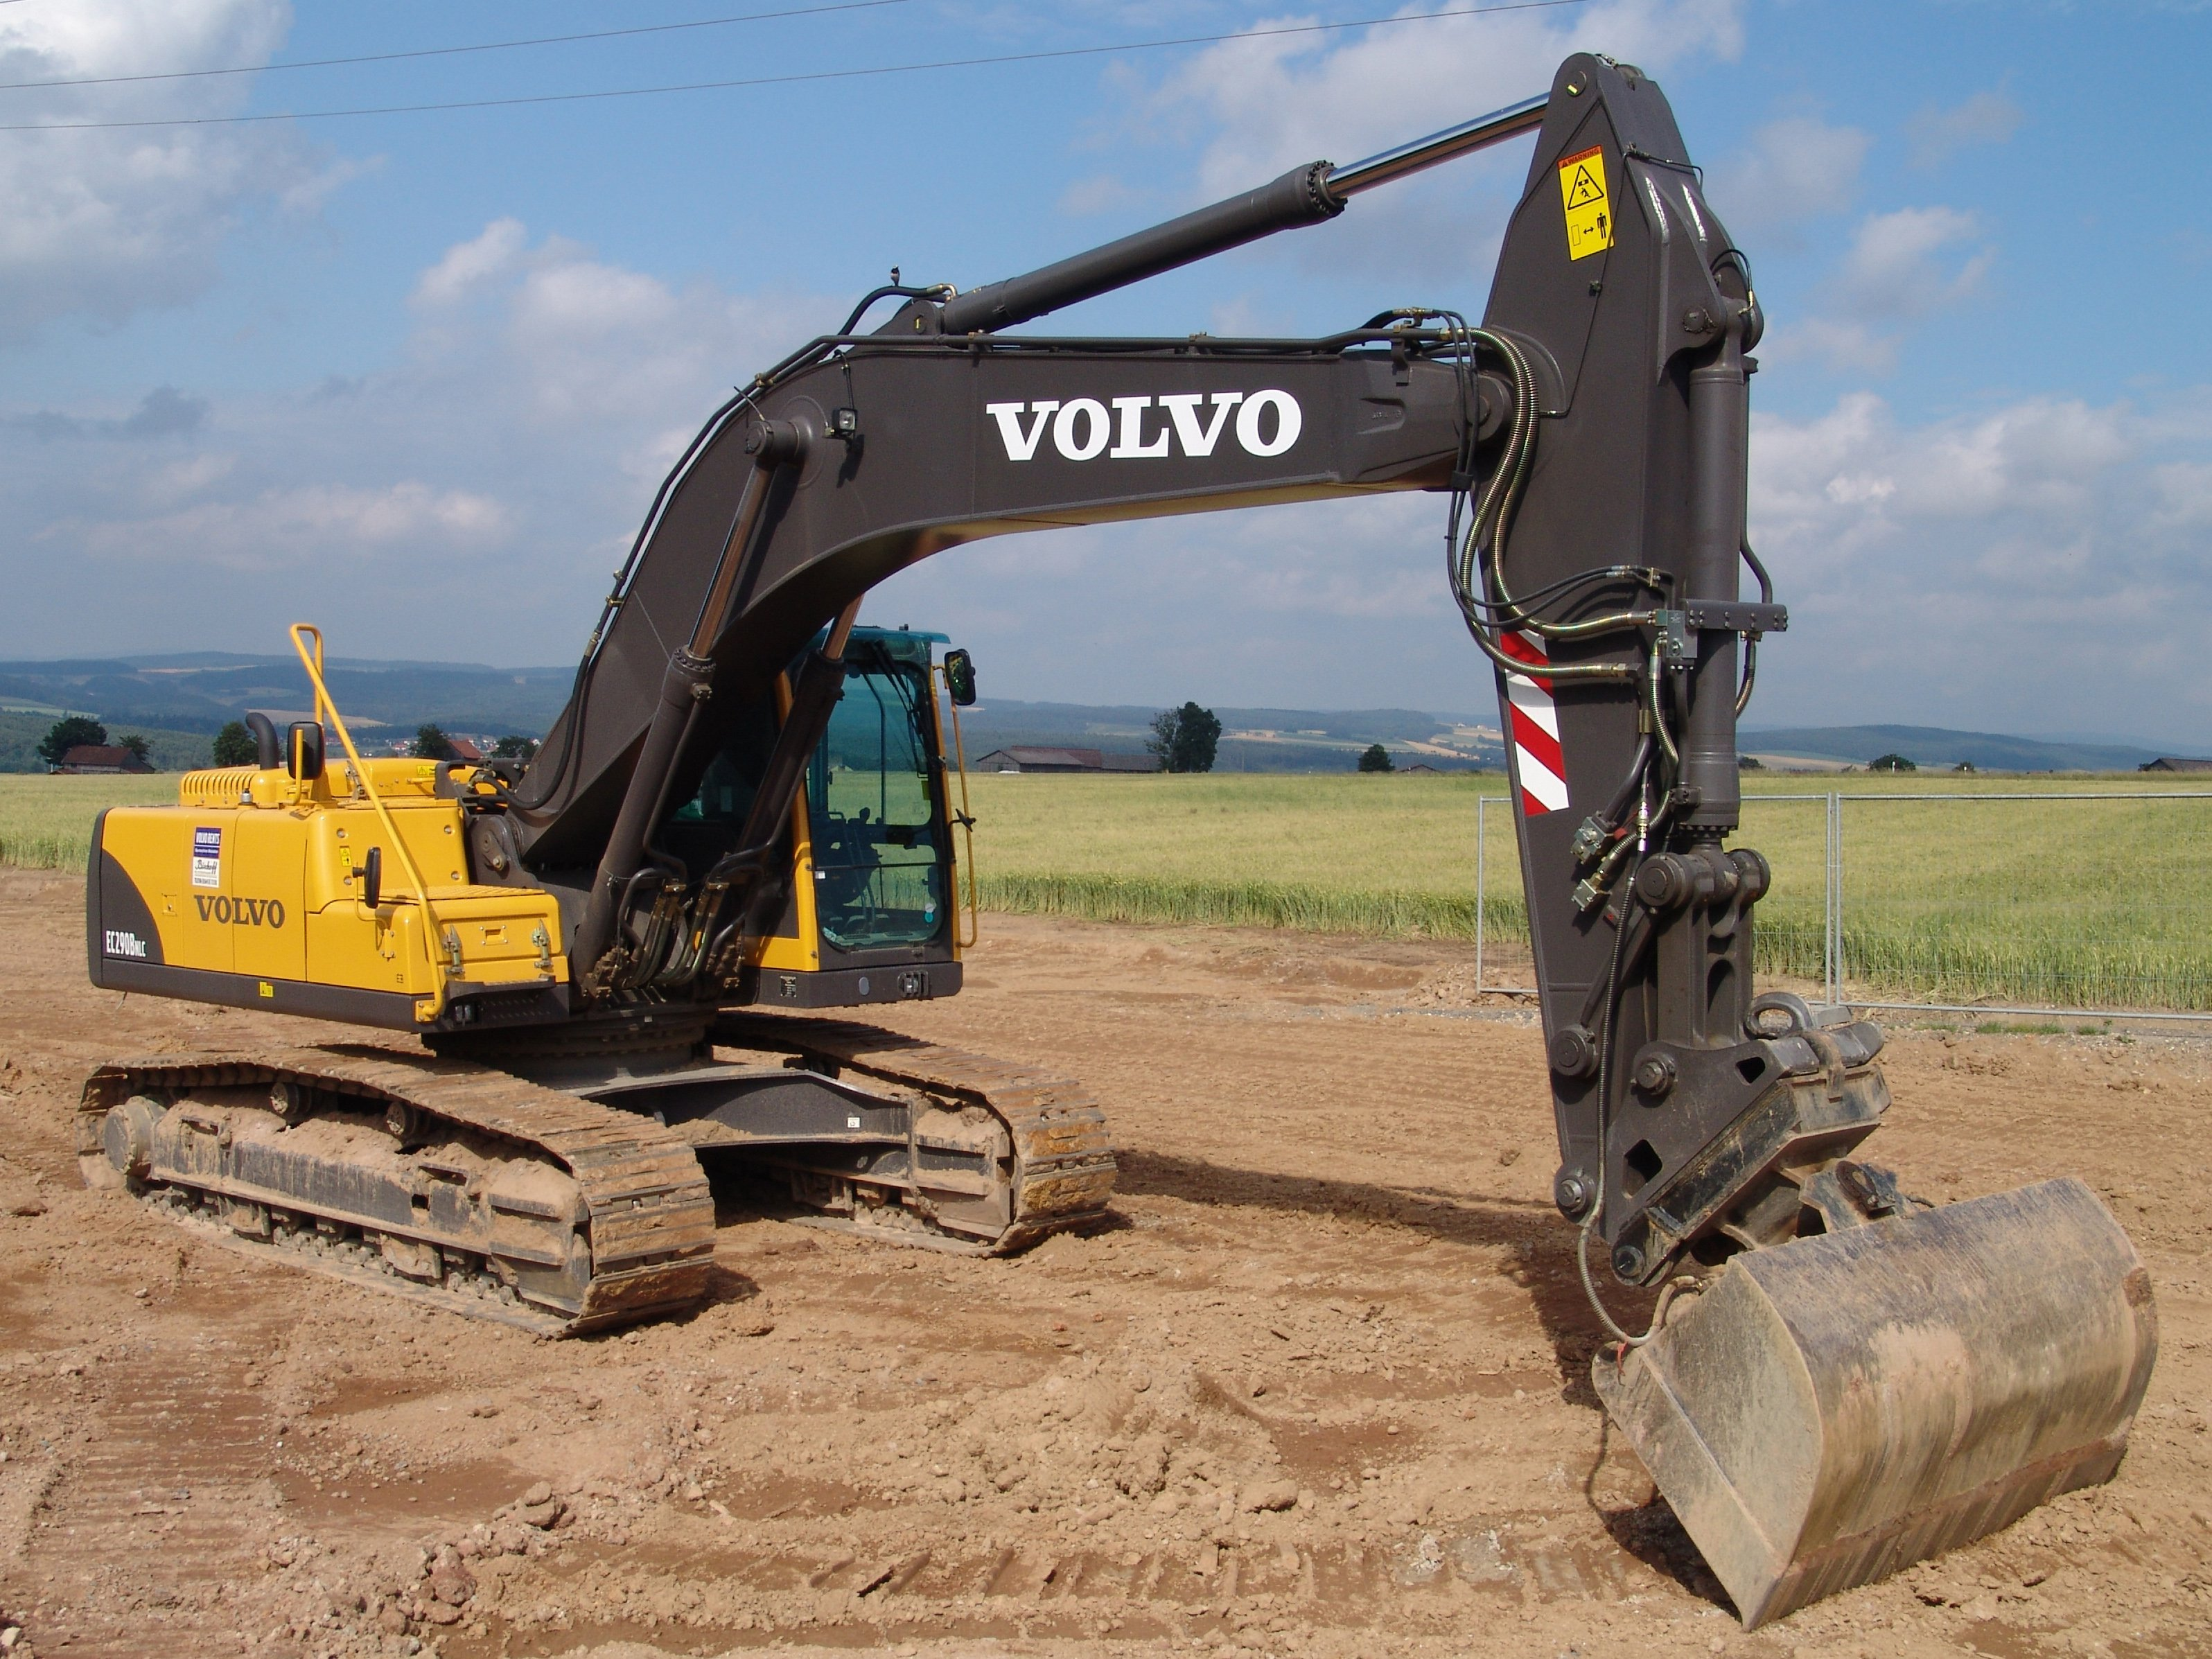excavator: (80, 54, 2181, 1622)
